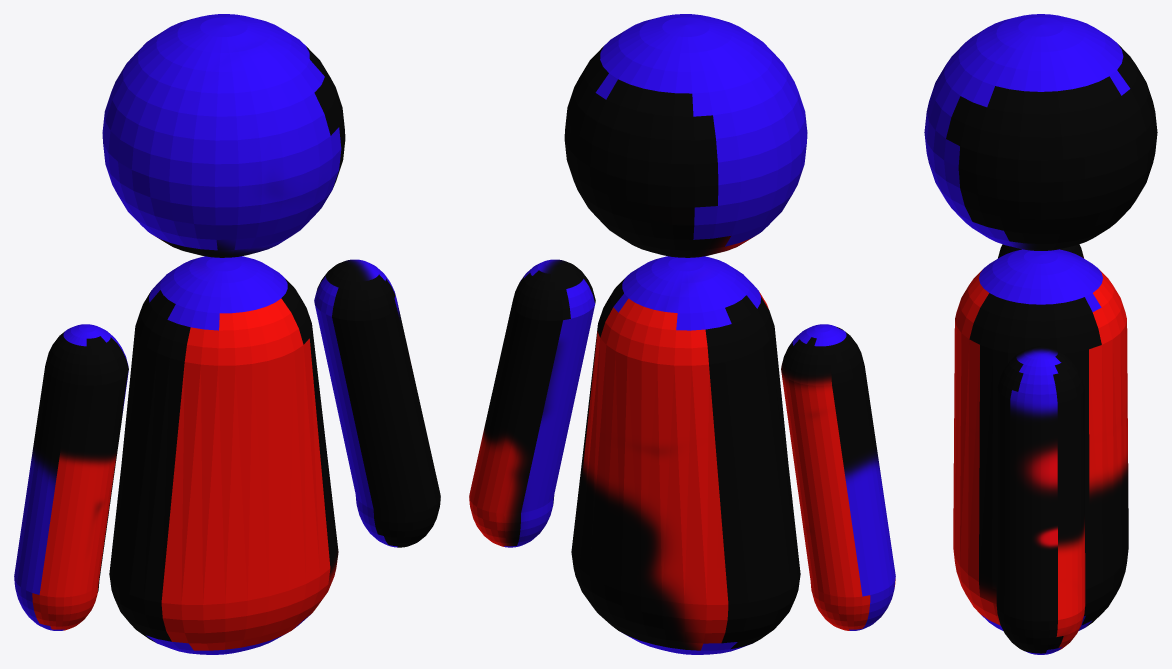
Rendered from Enem.obj.
The picture shows the model from 3 angles, left to right: view 1: azimuth 30°, elevation 25°; view 2: azimuth 150°, elevation 25°; view 3: azimuth 270°, elevation 25°; orthographic projection. The views are drawn at different scales.
Visible parts, largest first — view 1: Body, Head, Arm2, Arm1; view 2: Body, Head, Arm2, Arm1; view 3: Head, Body, Arm1.
Boxes of the visible parts, box(x1,y1,x2,y2) form: Body: box(109, 256, 338, 654); Head: box(102, 14, 345, 257); Arm2: box(14, 324, 128, 630); Arm1: box(314, 259, 440, 547); Body: box(571, 256, 800, 654); Head: box(564, 14, 807, 257); Arm2: box(781, 324, 895, 630); Arm1: box(469, 259, 595, 547); Head: box(924, 14, 1157, 250); Body: box(953, 249, 1128, 630); Arm1: box(996, 346, 1085, 654).
Size of the model in its own units: 2.08 by 2.98 by 1.05.
